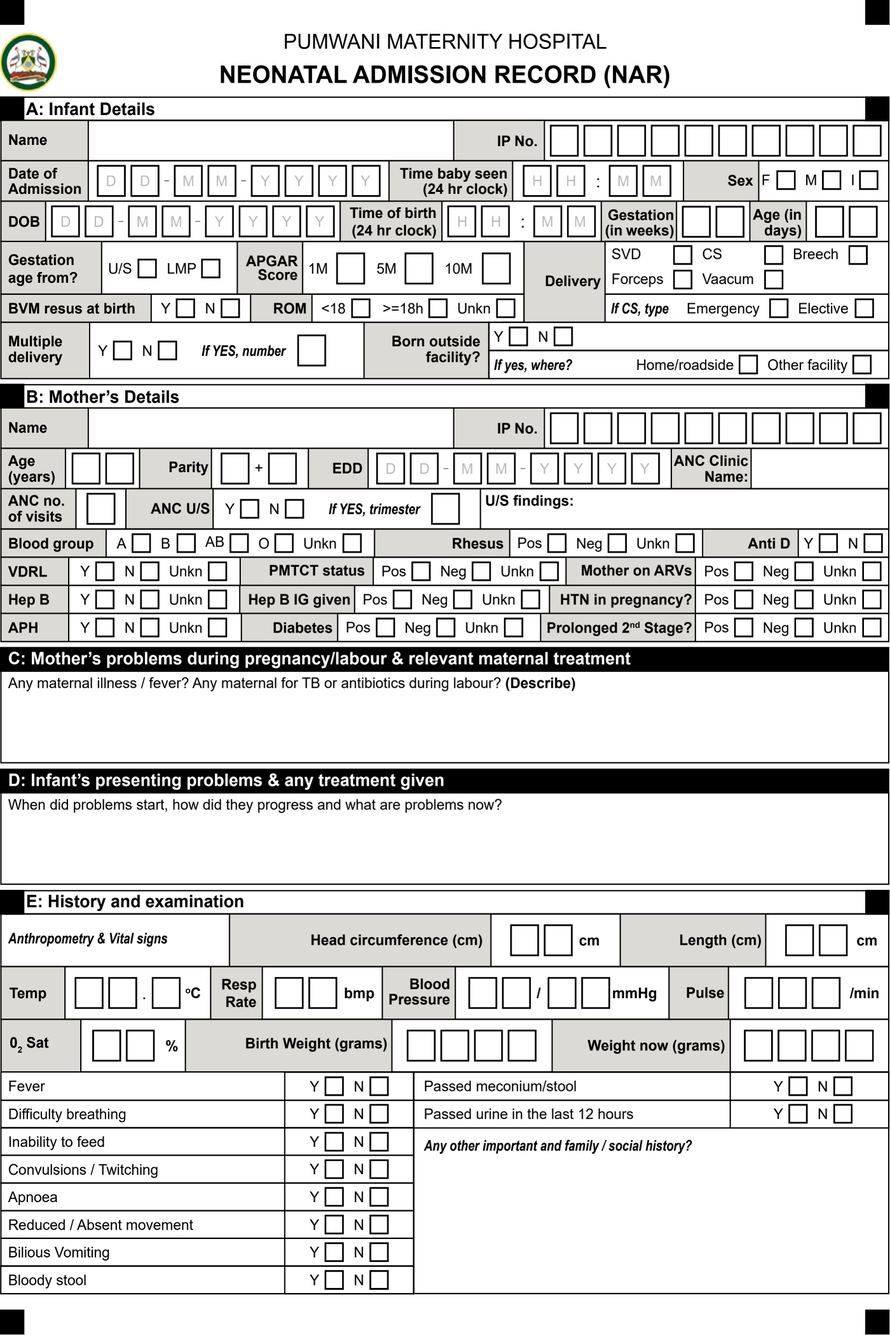age_days_1: (814, 205, 845, 238)
age_days_2: (848, 205, 879, 238)
age_years_1: (71, 452, 101, 485)
age_years_2: (104, 452, 135, 485)
anc_us_no: (284, 498, 305, 520)
anc_us_yes: (238, 498, 261, 520)
anc_visits_num: (86, 492, 116, 526)
anc_visits_trimester: (430, 492, 461, 526)
anti_d_no: (862, 532, 884, 554)
anti_d_yes: (818, 532, 839, 554)
apgar_10m_1: (481, 252, 512, 285)
apgar_1m_1: (336, 252, 366, 285)
apgar_5m_1: (404, 252, 434, 285)
aph_no: (139, 617, 161, 639)
aph_unknown: (207, 617, 228, 639)
aph_yes: (94, 617, 116, 639)
apnoea_no: (368, 1186, 390, 1208)
apnoea_yes: (324, 1186, 345, 1208)
bba_facility: (851, 353, 873, 376)
bba_home: (737, 353, 759, 376)
bba_no: (552, 325, 574, 348)
bba_yes: (507, 325, 530, 348)
birth_weight_1: (406, 1029, 436, 1062)
birth_weight_2: (440, 1029, 470, 1062)
birth_weight_3: (474, 1029, 503, 1062)
birth_weight_4: (507, 1029, 537, 1062)
blood_group_a: (130, 532, 153, 554)
blood_group_ab: (228, 532, 250, 554)
blood_group_b: (175, 532, 197, 554)
blood_group_o: (273, 532, 295, 554)
blood_group_unknown: (341, 532, 363, 554)
blood_pressure_1: (468, 976, 498, 1010)
blood_pressure_2: (502, 976, 532, 1010)
blood_pressure_3: (547, 976, 577, 1010)
blood_pressure_4: (581, 976, 611, 1010)
bvm_resuscitation_no: (219, 297, 242, 319)
bvm_resuscitation_yes: (174, 297, 196, 319)
convulsions_no: (368, 1158, 390, 1181)
convulsions_yes: (324, 1158, 345, 1180)
cs_elective: (853, 297, 875, 319)
cs_emergency: (768, 297, 790, 319)
date_admission_1: (96, 164, 127, 198)
date_admission_2: (130, 164, 160, 198)
date_admission_3: (173, 164, 203, 198)
date_admission_4: (207, 164, 237, 198)
date_admission_5: (250, 164, 280, 198)
date_admission_6: (284, 164, 314, 198)
date_admission_7: (317, 164, 348, 198)
date_admission_8: (351, 164, 381, 198)
date_birth_1: (50, 205, 81, 238)
date_birth_2: (84, 205, 114, 238)
date_birth_3: (127, 205, 158, 238)
date_birth_4: (161, 205, 191, 238)
date_birth_5: (204, 205, 235, 238)
date_birth_6: (238, 205, 268, 238)
date_birth_7: (271, 205, 302, 238)
date_birth_8: (305, 205, 336, 238)
date_edd_1: (376, 452, 406, 485)
date_edd_2: (409, 452, 439, 485)
date_edd_3: (453, 452, 483, 485)
date_edd_4: (486, 452, 516, 485)
date_edd_5: (530, 452, 559, 485)
date_edd_6: (563, 452, 593, 485)
date_edd_7: (597, 452, 627, 485)
date_edd_8: (631, 452, 661, 485)
delivery_breech: (847, 244, 869, 266)
delivery_cs: (763, 244, 784, 266)
delivery_forceps: (672, 268, 694, 291)
delivery_svd: (672, 244, 694, 266)
delivery_vacuum: (763, 268, 784, 291)
diabetes_negative: (435, 617, 456, 639)
diabetes_positive: (374, 617, 397, 639)
diabetes_unknown: (503, 617, 524, 639)
diarhoea_no: (368, 1269, 390, 1291)
diarhoea_yes: (324, 1269, 345, 1291)
difficulty_breathing_no: (368, 1103, 390, 1125)
difficulty_breathing_yes: (324, 1103, 345, 1125)
difficulty_feeding_no: (368, 1131, 390, 1153)
difficulty_feeding_yes: (324, 1131, 345, 1153)
fever_no: (368, 1075, 390, 1097)
fever_yes: (324, 1075, 345, 1097)
floppy_no: (368, 1214, 390, 1236)
floppy_yes: (324, 1214, 345, 1236)
gestation_1: (681, 205, 711, 238)
gestation_2: (715, 205, 745, 238)
gestation_lmp: (200, 257, 222, 280)
gestation_us: (136, 257, 158, 280)
head_circumfrence_1: (509, 924, 540, 957)
head_circumfrence_2: (543, 924, 573, 957)
hepb_ig_given_negative: (452, 588, 474, 610)
hepb_ig_given_positive: (392, 588, 413, 610)
hepb_ig_given_unknown: (519, 588, 542, 610)
hepb_no: (139, 588, 161, 610)
hepb_unknown: (207, 588, 228, 610)
hepb_yes: (94, 588, 116, 610)
htn_pregnancy_negative: (793, 588, 815, 610)
htn_pregnancy_positive: (733, 588, 755, 610)
htn_pregnancy_unknown: (861, 588, 883, 610)
length_1: (784, 924, 815, 957)
length_2: (818, 924, 849, 957)
meconium_no: (832, 1075, 854, 1097)
meconium_yes: (787, 1075, 809, 1097)
multiple_delivery_no: (156, 339, 179, 362)
multiple_delivery_num: (296, 334, 327, 367)
multiple_delivery_yes: (112, 339, 134, 362)
mum_arvs_negative: (793, 560, 815, 582)
mum_arvs_positive: (733, 560, 755, 582)
mum_arvs_unknown: (861, 560, 883, 582)
parity_dead: (268, 452, 298, 485)
parity_live: (220, 452, 250, 485)
pmtct_positive: (410, 560, 432, 582)
pmtct_unknown: (470, 560, 492, 582), (538, 560, 560, 582)
prolonged_stage2_negative: (793, 617, 815, 639)
prolonged_stage2_positive: (733, 617, 755, 639)
prolonged_stage2_unknown: (861, 617, 883, 639)
pulse_oximetry_1: (92, 1029, 122, 1062)
pulse_oximetry_2: (125, 1029, 156, 1062)
pulse_rate_1: (744, 976, 774, 1010)
pulse_rate_2: (777, 976, 808, 1010)
pulse_rate_3: (811, 976, 842, 1010)
resp_rate_1: (274, 976, 305, 1010)
resp_rate_2: (308, 976, 338, 1010)
rhesus_negative: (606, 532, 628, 554)
rhesus_positive: (546, 532, 568, 554)
rhesus_unknown: (674, 532, 696, 554)
rom_ge18: (427, 297, 449, 319)
rom_lt18: (350, 297, 372, 319)
rom_unknown: (495, 297, 517, 319)
sex_female: (775, 169, 797, 191)
sex_intermediate: (858, 169, 880, 191)
sex_male: (821, 169, 843, 191)
temp_1: (74, 976, 104, 1010)
temp_2: (108, 976, 138, 1010)
temp_3: (151, 976, 182, 1010)
time_birth_1: (447, 205, 477, 238)
time_birth_2: (481, 205, 510, 238)
time_birth_3: (533, 205, 563, 238)
time_birth_4: (566, 205, 596, 238)
time_seen_1: (522, 164, 552, 198)
time_seen_2: (556, 164, 586, 198)
time_seen_3: (608, 164, 638, 198)
time_seen_4: (642, 164, 672, 198)
urine_no: (832, 1103, 854, 1125)
urine_yes: (788, 1103, 810, 1125)
vdrl_no: (139, 560, 161, 582)
vdrl_unknown: (207, 560, 228, 582)
vdrl_yes: (94, 560, 116, 582)
vomiting_no: (368, 1241, 390, 1263)
vomiting_yes: (324, 1241, 345, 1263)
weight_now_1: (743, 1029, 774, 1062)
weight_now_2: (777, 1029, 807, 1062)
weight_now_3: (811, 1029, 841, 1062)
weight_now_4: (844, 1029, 875, 1062)
